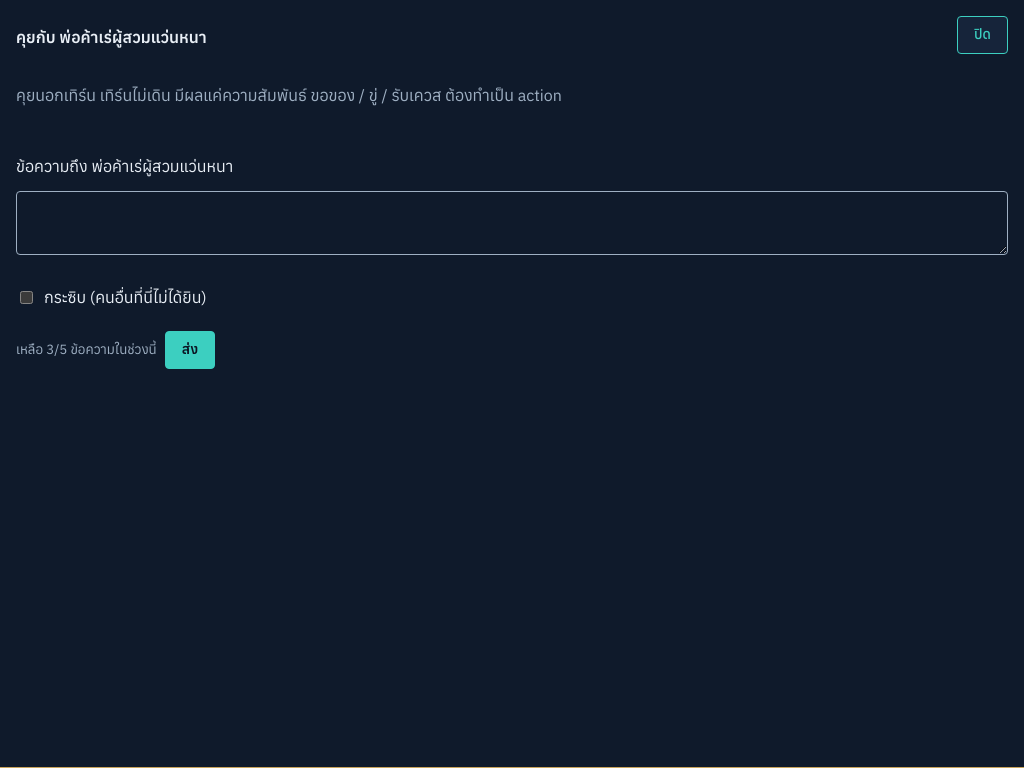
Test: GEN-149 NPC chat (web) › C8: an AI error shows the reason and [ลองใหม่], which sends the same message again
expect the text "เหลือ 3/5 ข้อความในช่วงนี้" is shown: met, box [16, 339, 157, 361]
Type "สวัสดี" into the text box labelled "ข้อความถึง พ่อค้าเร่ผู้สวมแว่นหนา" at (512, 223), box [16, 191, 1008, 255]
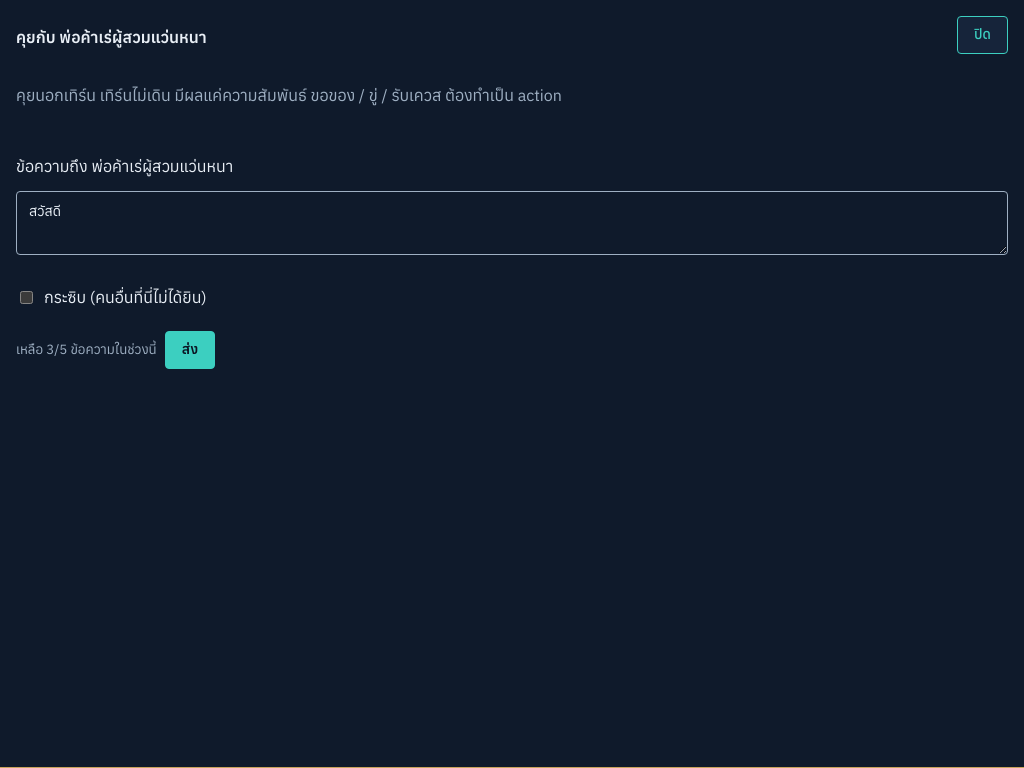
Click the button "ส่ง" at (190, 350), box [165, 331, 215, 369]
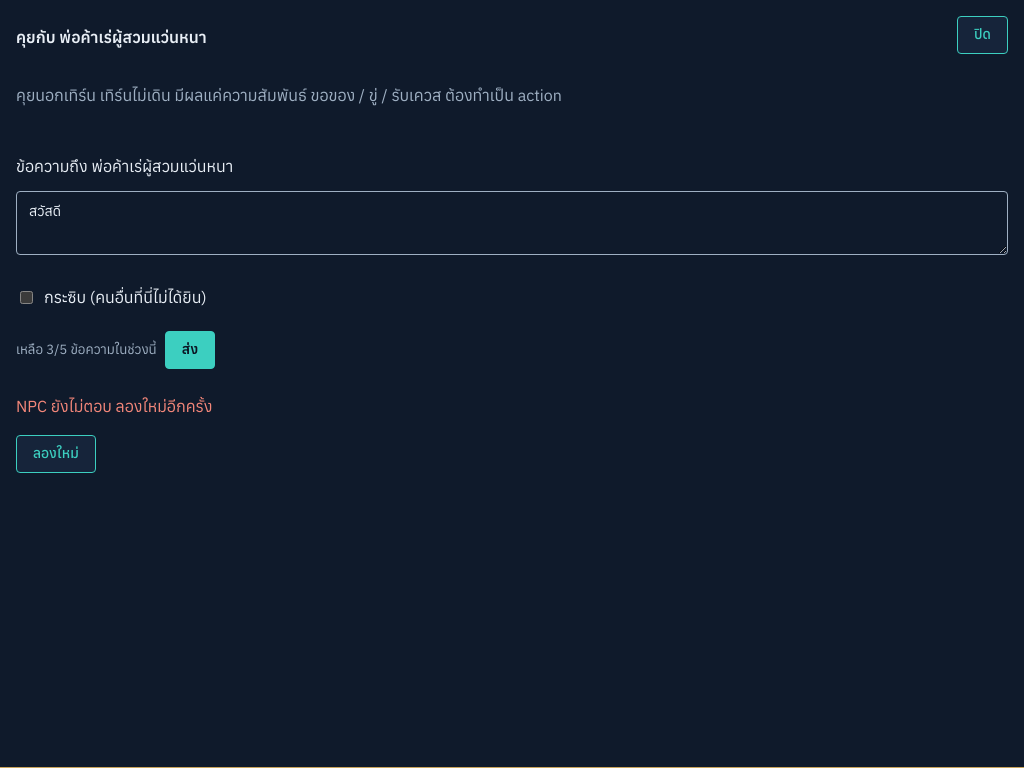
expect the text "เหลือ 3/5 ข้อความในช่วงนี้" is shown: met, box [16, 339, 157, 361]
expect the message shows "NPC ยังไม่ตอบ": met, box [16, 396, 212, 416]
Click the button "ลองใหม่" at (56, 454), box [16, 435, 96, 473]
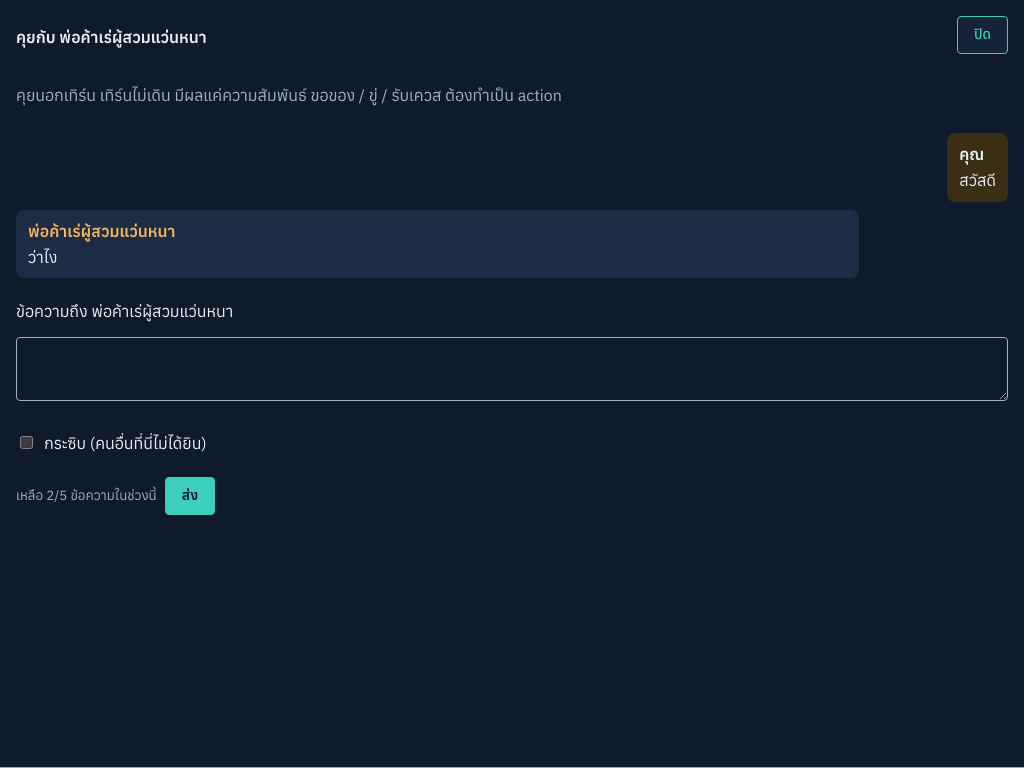
expect the text "ว่าไง" is shown: met, box [28, 247, 57, 267]
